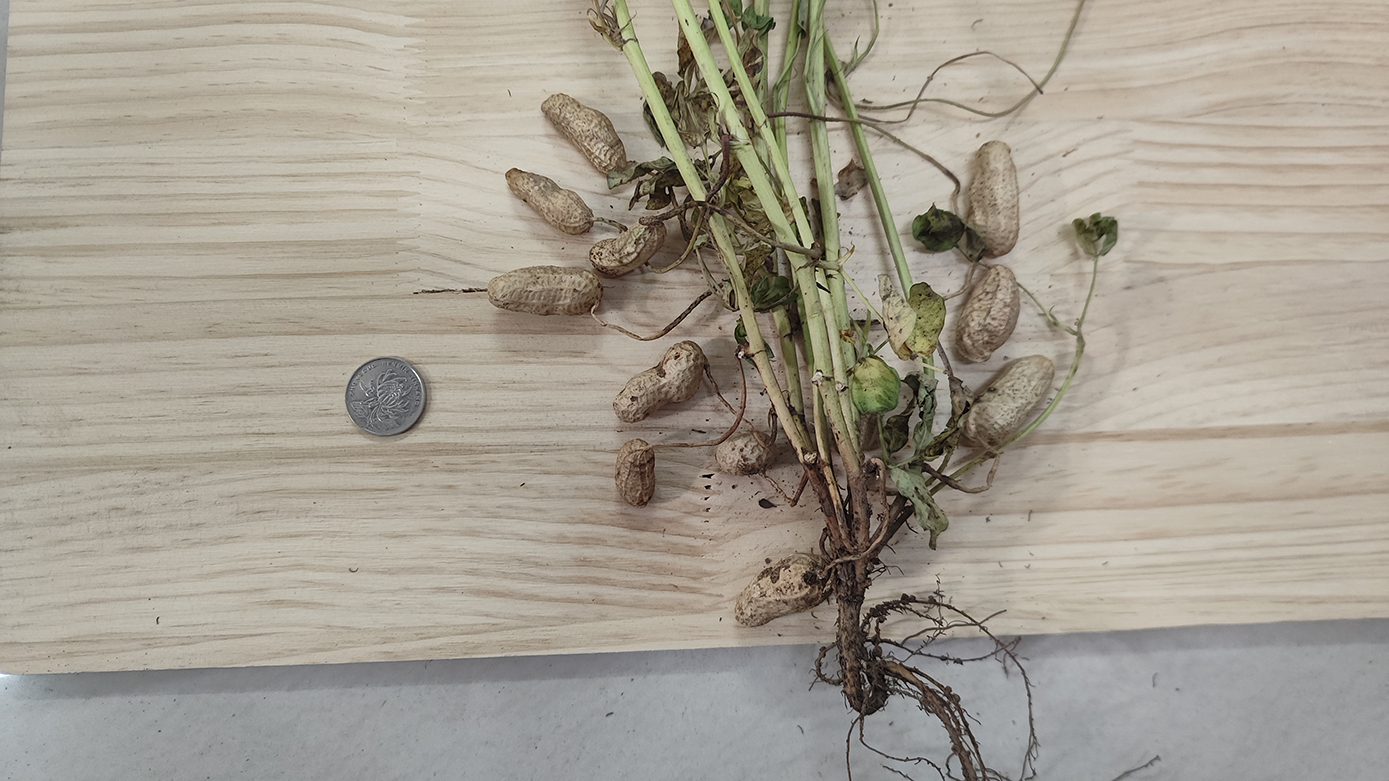h: (967, 356, 1056, 445), (611, 340, 706, 422), (734, 552, 832, 630), (966, 141, 1022, 258), (543, 93, 626, 171), (954, 266, 1020, 363), (487, 264, 604, 318), (505, 165, 592, 234), (589, 220, 666, 273), (613, 436, 656, 506), (714, 431, 769, 474)
